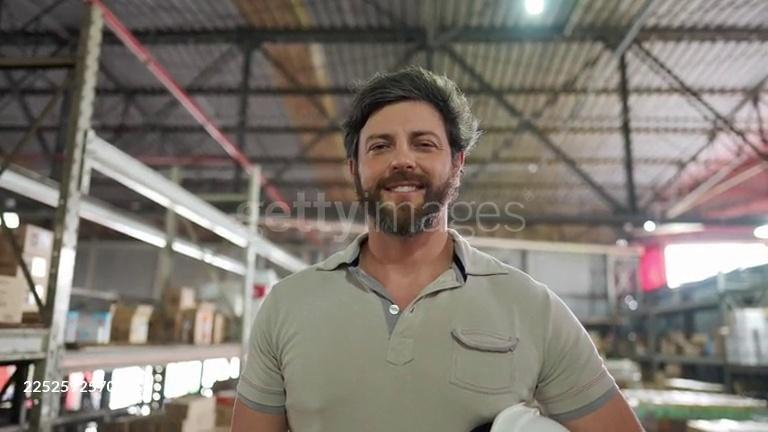helmet: (484, 399, 571, 432)
person: (230, 65, 642, 432)
